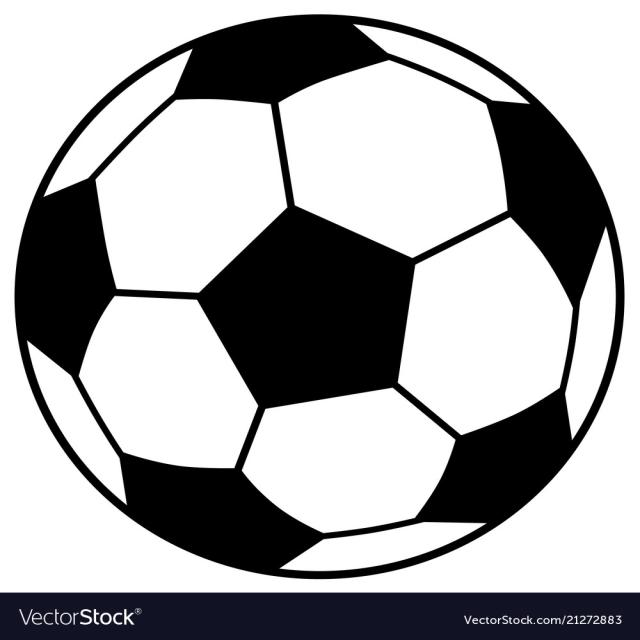soccer ball: (18, 16, 622, 572)
